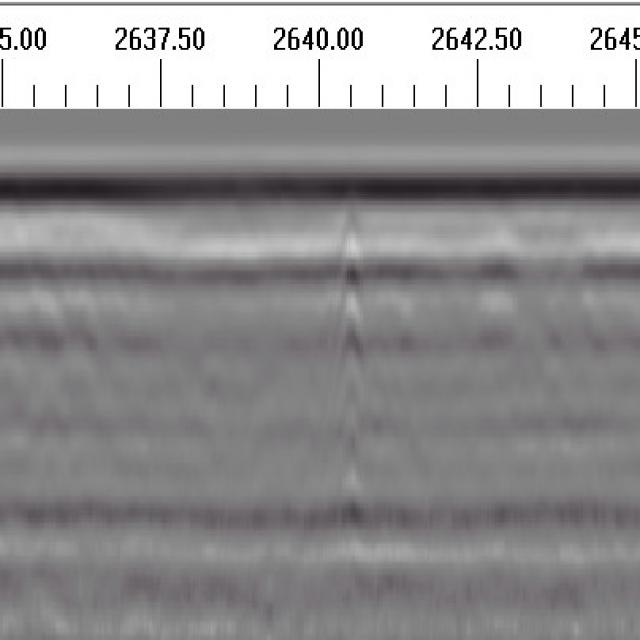crack: (332, 191, 370, 543)
